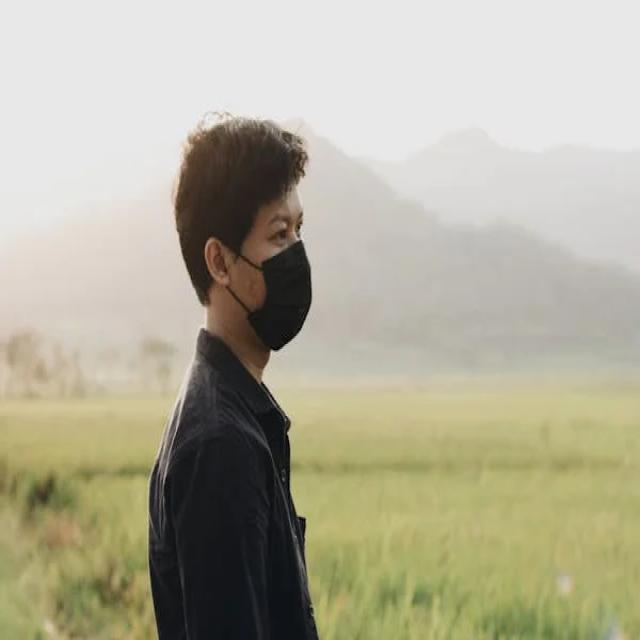mask: (173, 93, 340, 386)
